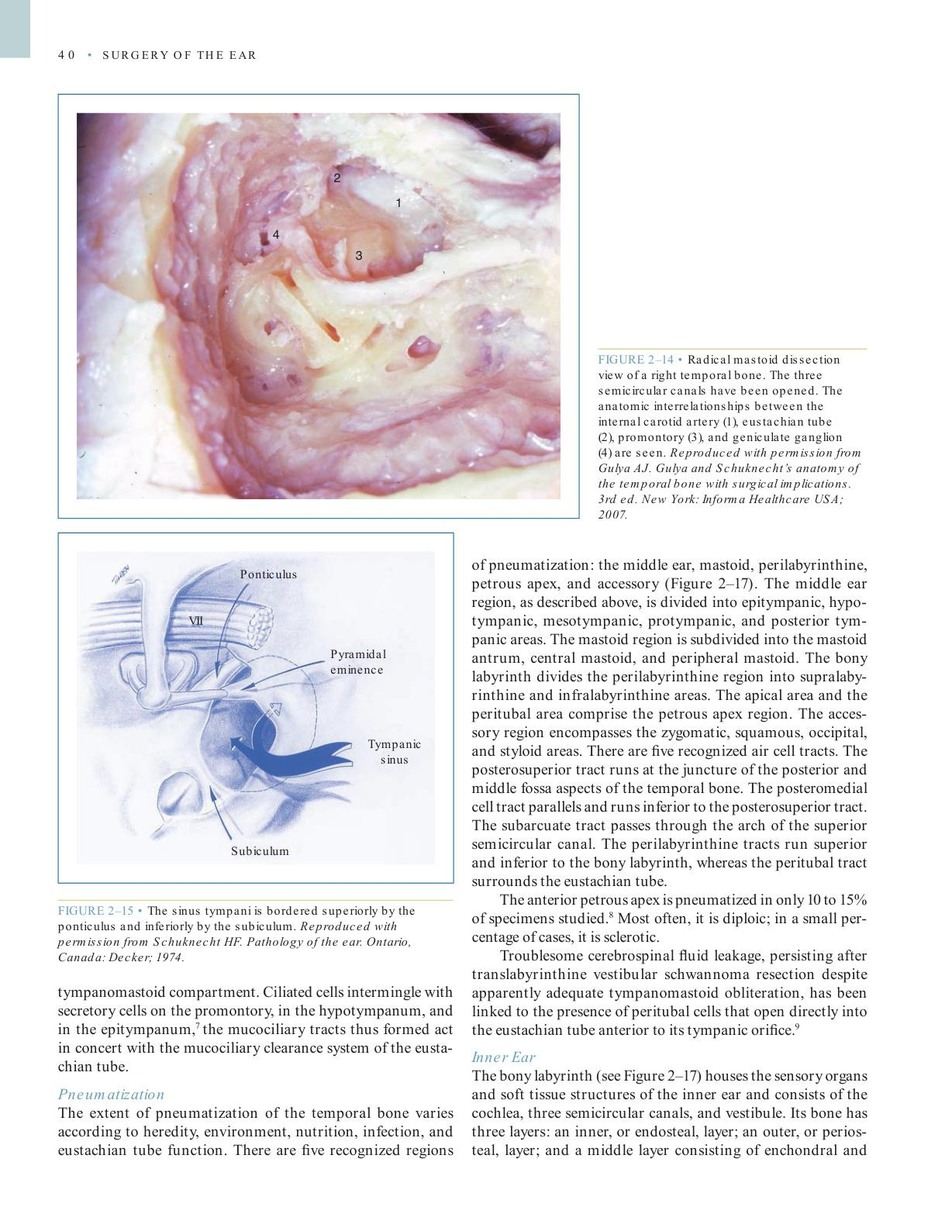caption: (596, 352, 862, 522), (54, 902, 418, 963)
header: (101, 48, 256, 61)
image: (75, 111, 562, 502), (72, 545, 439, 870)
sub-section-heading: (56, 1086, 167, 1101), (469, 1048, 537, 1064)
text: (470, 556, 869, 1040), (470, 1067, 869, 1161), (56, 985, 455, 1073), (56, 1104, 455, 1160)
